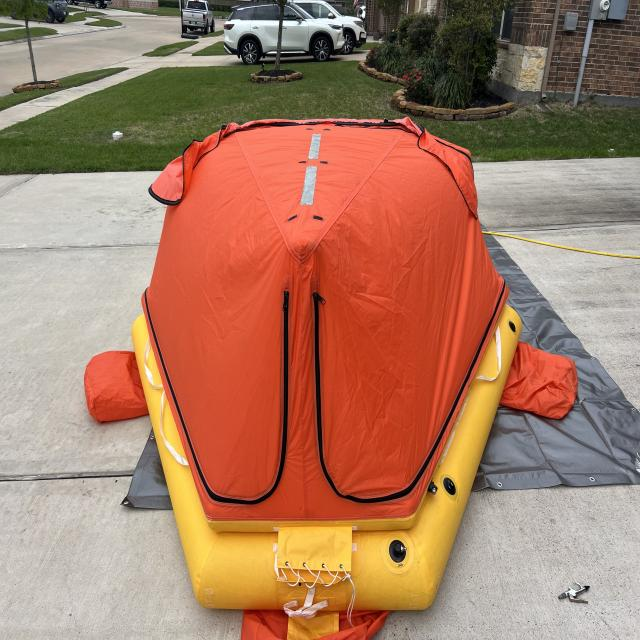Multi-person_life_raft: (84, 115, 578, 639)
